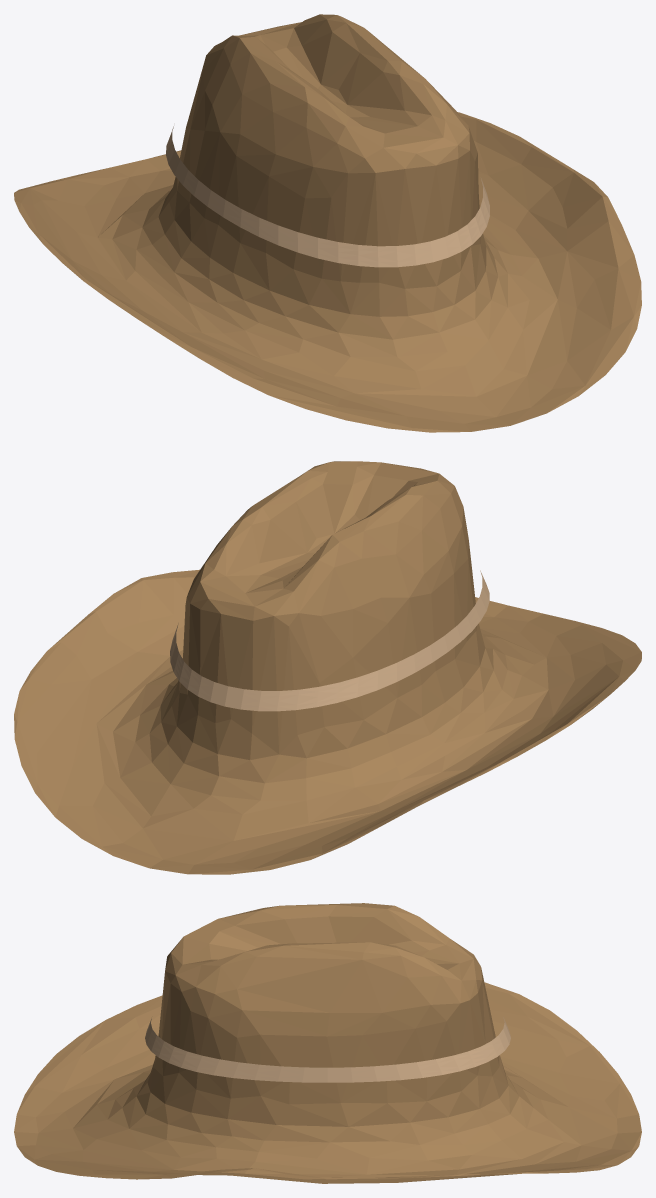
The model's file is hat_compressed.glb.
The picture shows the model from 3 angles, top to bottom: view 1: azimuth 30°, elevation 25°; view 2: azimuth 150°, elevation 25°; view 3: azimuth 270°, elevation 25°; orthographic projection. The views are drawn at different scales.
Visible parts, largest first — view 1: Hat, ring; view 2: Hat, ring; view 3: Hat, ring.
Part boxes in pixels (bbox=[...]): Hat: bbox=[14, 14, 641, 432]; ring: bbox=[166, 126, 489, 267]; Hat: bbox=[14, 461, 641, 874]; ring: bbox=[170, 570, 489, 711]; Hat: bbox=[14, 903, 641, 1183]; ring: bbox=[145, 1017, 510, 1082].
Size of the model in its own units: 9836139 by 4656415 by 1.27e+07.
